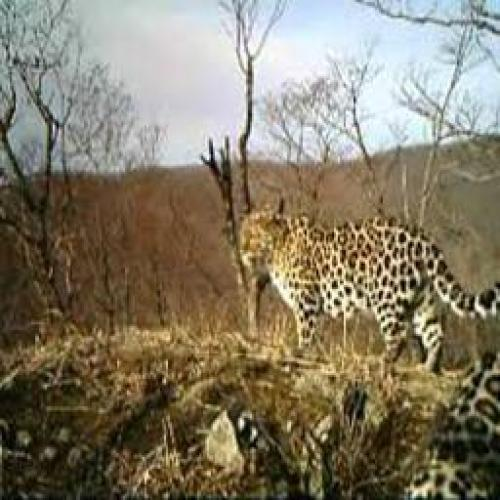amur_leopard-endangered: (236, 192, 500, 374)
